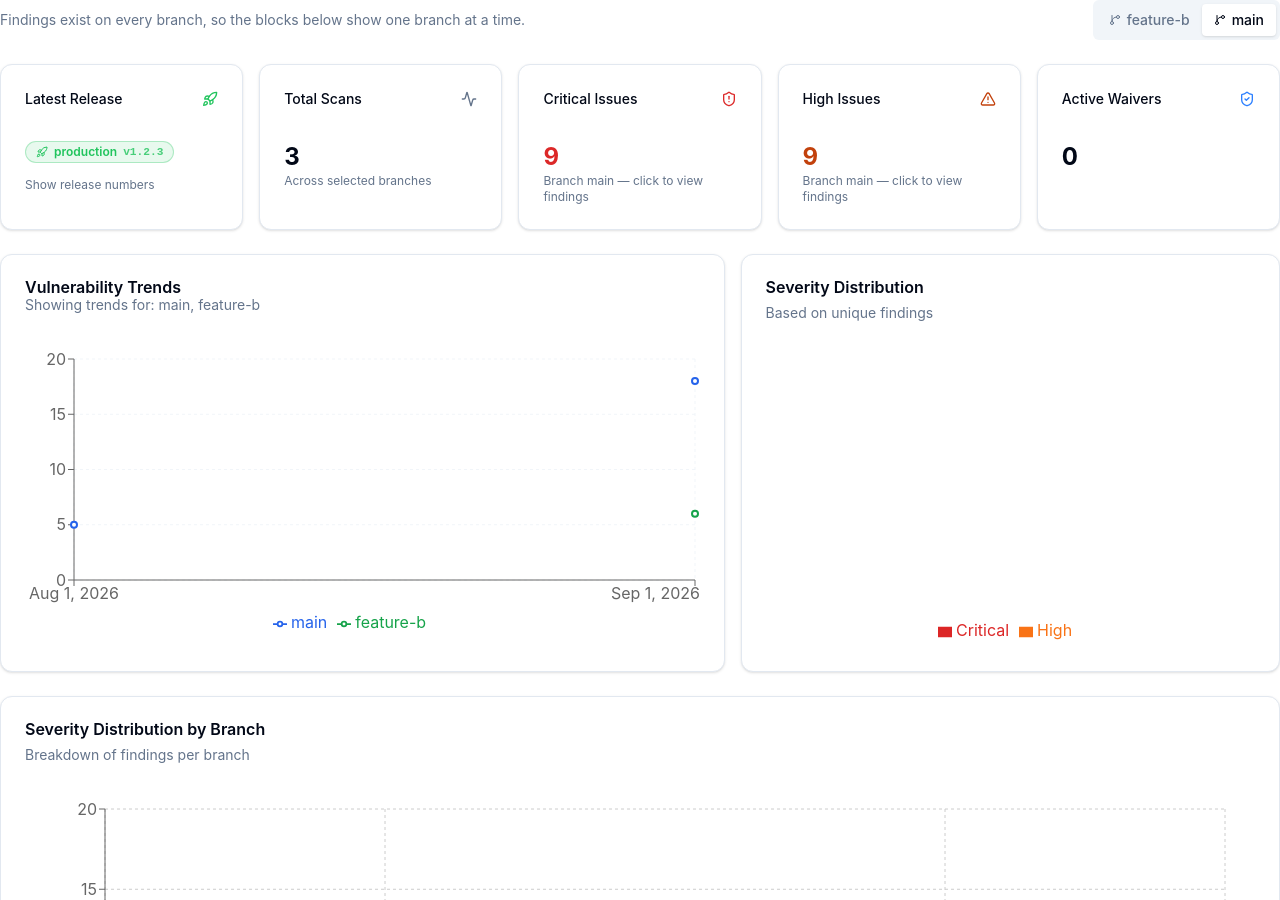
Test: ProjectOverview - release tile › turns the branch tabs off while release numbers are shown
Expected: the tab "main" is enabled, [1202,4,1276,36]
Click the button "Show release numbers": click(90, 185) [25,177,155,193]
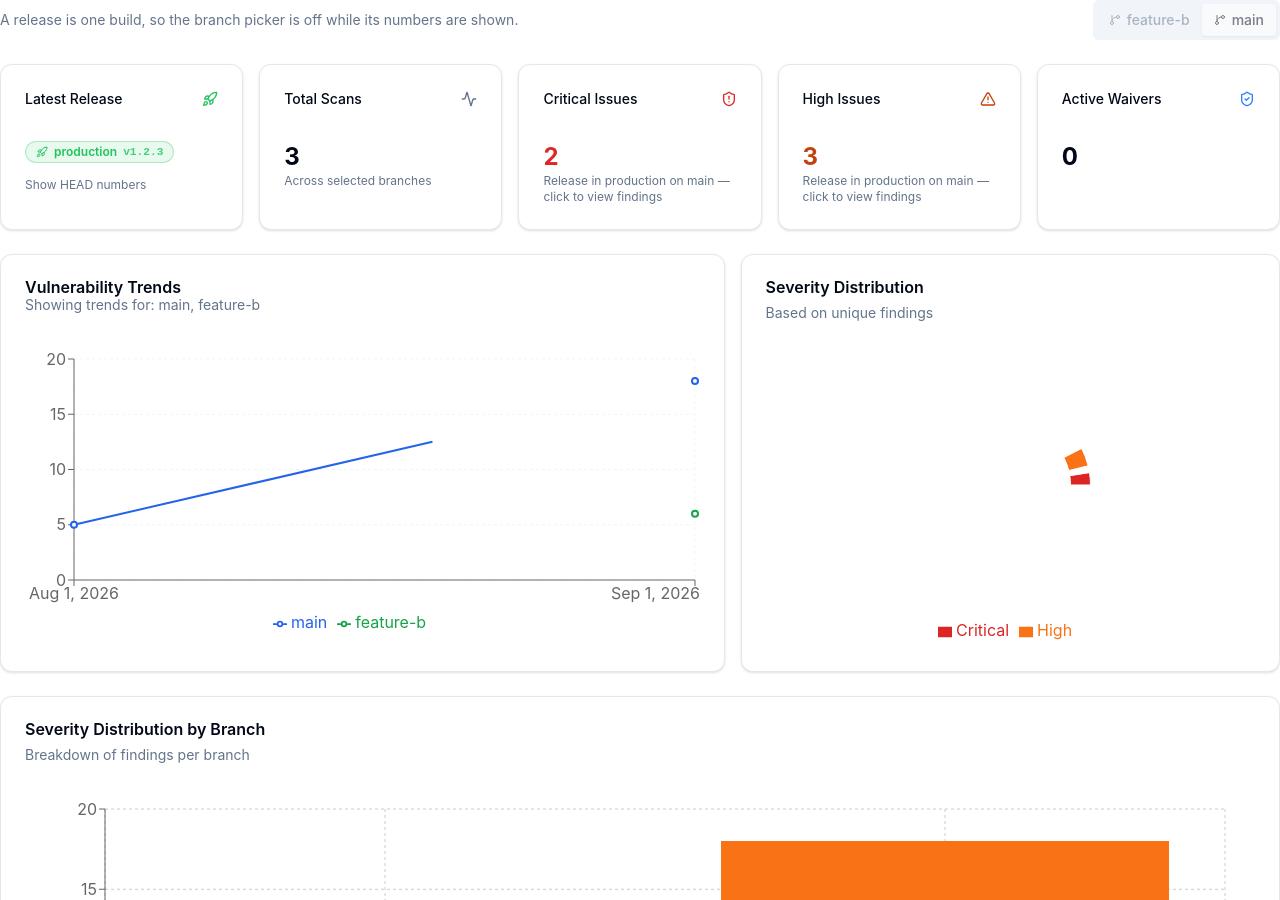
Expected: the tab "main" is disabled, [1202,4,1276,36]
Expected: the tab "feature-b" is disabled, [1097,4,1202,36]
